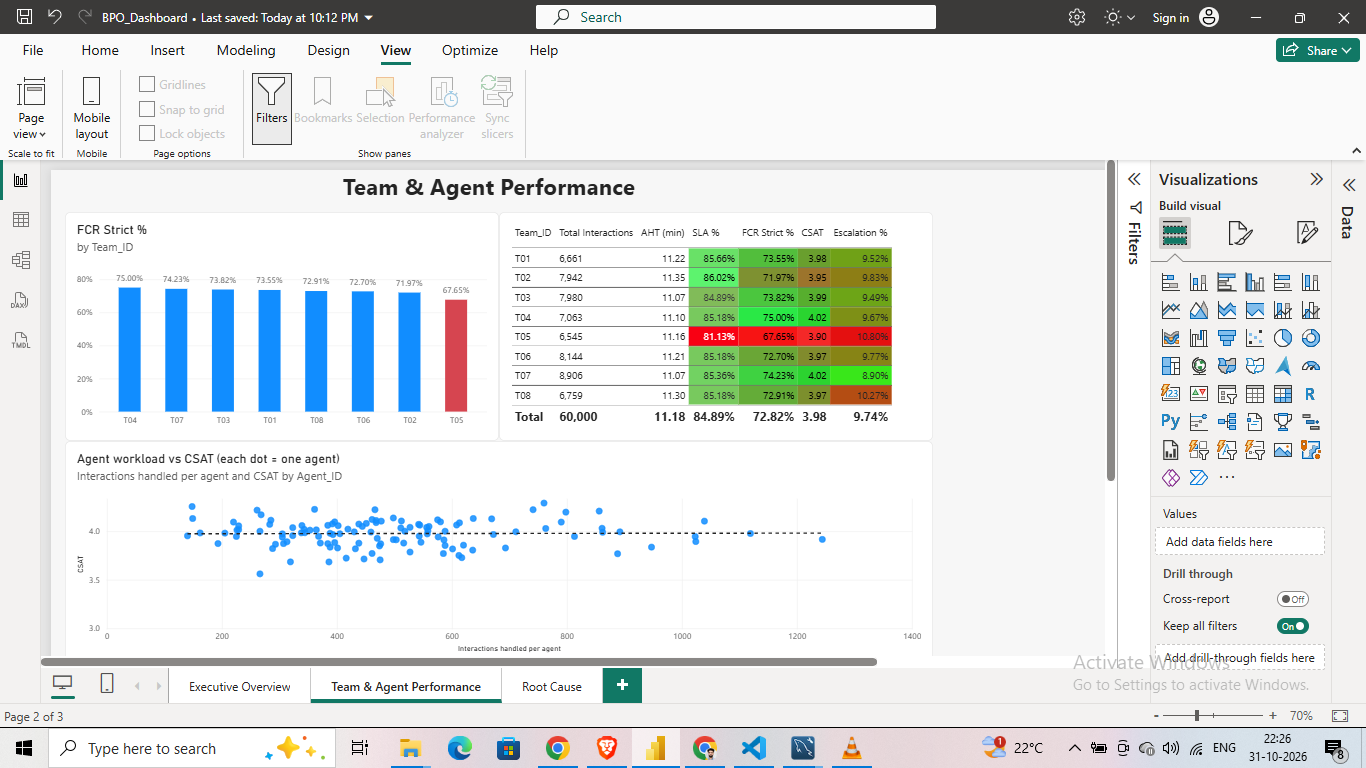

What the dashboard file says about the page in this screenshot:
{"tool":"powerbi","page":{"name":"Team & Agent Performance","canvas":[1920,1080],"ordinal":1},"visuals":[{"type":"textbox","box":[5,0,1240.2,78.1],"z":0},{"type":"clusteredColumnChart","fields":{"Category":["Interactions.Team_ID"],"Y":["Interactions.FCR Strict %"]},"box":[20,60,620,327.1],"z":1},{"type":"tableEx","fields":{"Values":["Interactions.Team_ID","Interactions.Total Interactions","Interactions.AHT (min)","Interactions.SLA %","Interactions.FCR Strict %","Interactions.CSAT","Interactions.Escalation %"]},"box":[640,60,620,327.1],"z":2},{"type":"scatterChart","title":"Agent workload vs CSAT (each dot = one agent)","fields":{"Category":["Interactions.Agent_ID"],"X":["Interactions.Interaction Count"],"Y":["Interactions.CSAT"]},"box":[20,387.1,1240,318.6],"z":3}]}

Visuals, with their boxes on the page's 1920x1080 design canvas (x1, y1, x2, y2). These are canvas units, not pixel positions in the 1366x768 screenshot, which may show the page scaled, cropped or inside an application window:
textbox: bbox(5, 0, 1245, 78)
clusteredColumnChart - Interactions.Team_ID x Interactions.FCR Strict %: bbox(20, 60, 640, 387)
tableEx - Interactions.Team_ID x Interactions.Total Interactions: bbox(640, 60, 1260, 387)
"Agent workload vs CSAT (each dot = one agent)" scatterChart: bbox(20, 387, 1260, 706)
